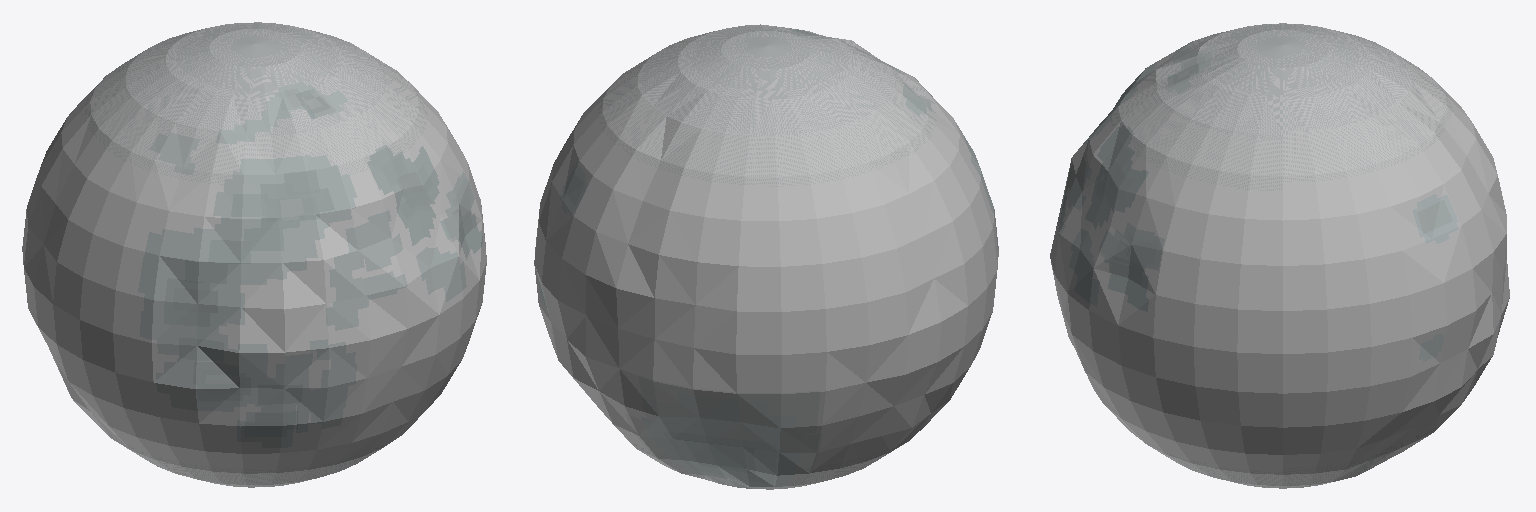
The picture shows the model from 3 angles: view 1: azimuth 30°, elevation 25°; view 2: azimuth 150°, elevation 25°; view 3: azimuth 270°, elevation 25°; orthographic projection.
Parts seen in each view (by area): view 1: 球.001; view 2: 球.001; view 3: 球.001.
Part boxes in pixels (left/top/right/bottom): 球.001: left=22, top=22, right=486, bottom=487; 球.001: left=534, top=24, right=998, bottom=489; 球.001: left=1050, top=23, right=1509, bottom=488.
Size of the model in its own units: 2 by 2 by 1.98.
1 materials, 1 textured.